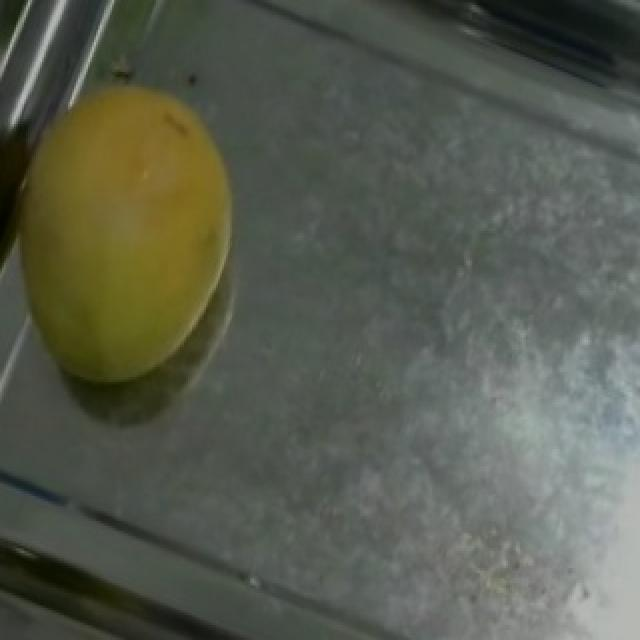fruit: (0, 42, 312, 432)
